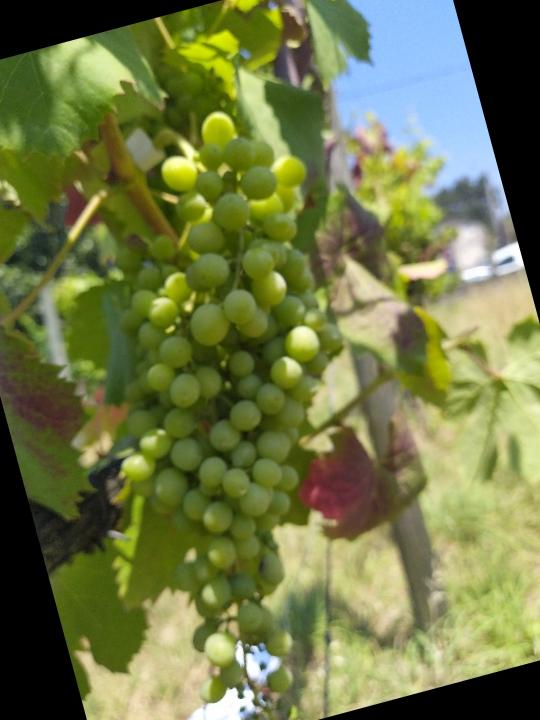grape: (36, 94, 444, 720)
